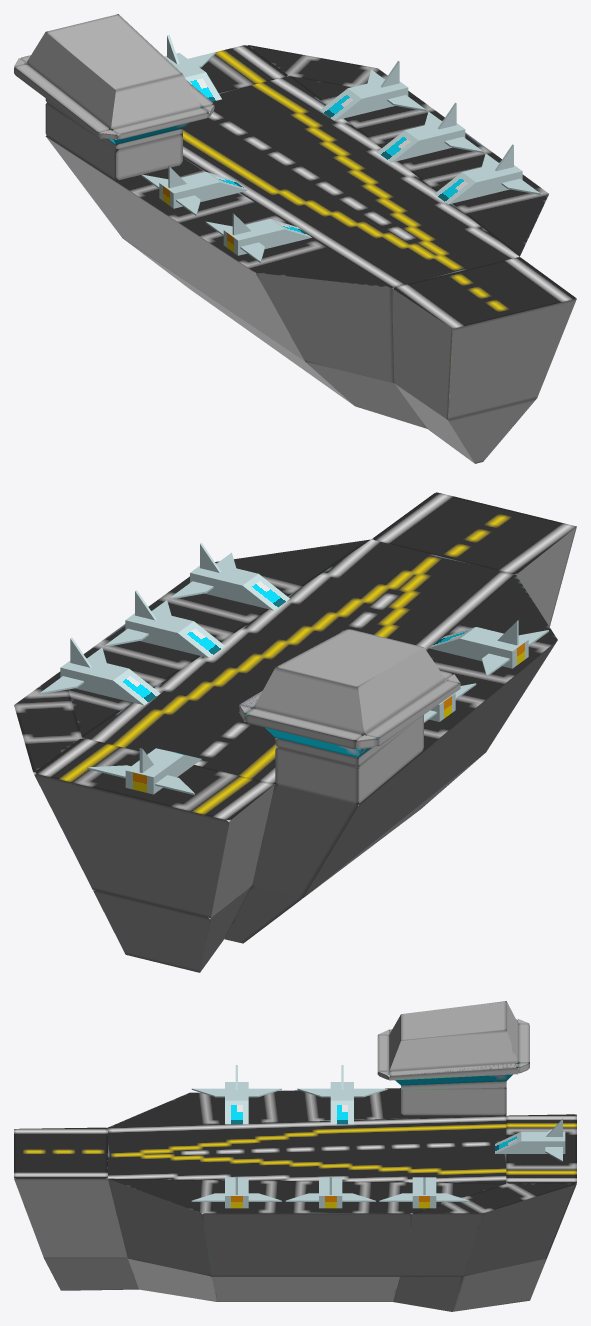
File: aircraft_carrier.fbx
3 views of the same model, one above another, from view 1: azimuth 30°, elevation 25°; view 2: azimuth 150°, elevation 25°; view 3: azimuth 270°, elevation 25° (orthographic). The views are drawn at different scales.
Visible parts, largest first — view 1: hoof, cabin, airplane_4, airplane_3, airplane_2, airplane_1, airplane, airplane_5; view 2: hoof, cabin, airplane_4, airplane_3, airplane_2, airplane, airplane_5, airplane_1; view 3: hoof, cabin, airplane_5, airplane, airplane_1, airplane_4, airplane_2, airplane_3.
Boxes of the visible parts, x1,y1,x2,y2 form: hoof: (45, 45, 576, 463); cabin: (14, 14, 214, 179); airplane_4: (320, 61, 426, 120); airplane_3: (377, 102, 483, 162); airplane_2: (434, 144, 540, 204); airplane_1: (141, 166, 247, 215); airplane: (205, 213, 311, 262); airplane_5: (164, 35, 221, 101); hoof: (14, 492, 576, 972); cabin: (239, 628, 460, 803); airplane_4: (40, 637, 160, 705); airplane_3: (104, 590, 224, 657); airplane_2: (169, 542, 289, 610); airplane: (428, 620, 548, 676); airplane_5: (87, 748, 201, 795); airplane_1: (424, 683, 476, 722); hoof: (14, 1087, 576, 1311); cabin: (377, 1001, 529, 1115); airplane_5: (495, 1118, 565, 1161); airplane: (191, 1065, 281, 1124); airplane_1: (297, 1065, 387, 1124); airplane_4: (379, 1177, 469, 1208); airplane_2: (191, 1177, 281, 1208); airplane_3: (285, 1177, 375, 1208).
Bounding box in the file's own units: 173 × 131 × 300.
2 materials, 2 textured.
